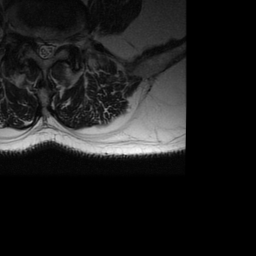CCS_normal: (43, 35, 49, 64)
LFS_stenosis: (58, 31, 65, 54)
LLS_normal: (49, 35, 57, 60)
RFS_severe_stenosis: (27, 29, 36, 51)
RLS_normal: (36, 34, 43, 58)
